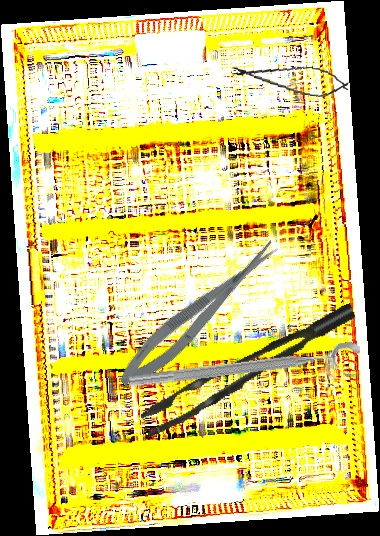Fixation Ring: (127, 340, 364, 407)
Micro Scissor: (110, 234, 289, 396), (228, 57, 353, 101)
Tissue Forceps: (130, 303, 369, 437)
